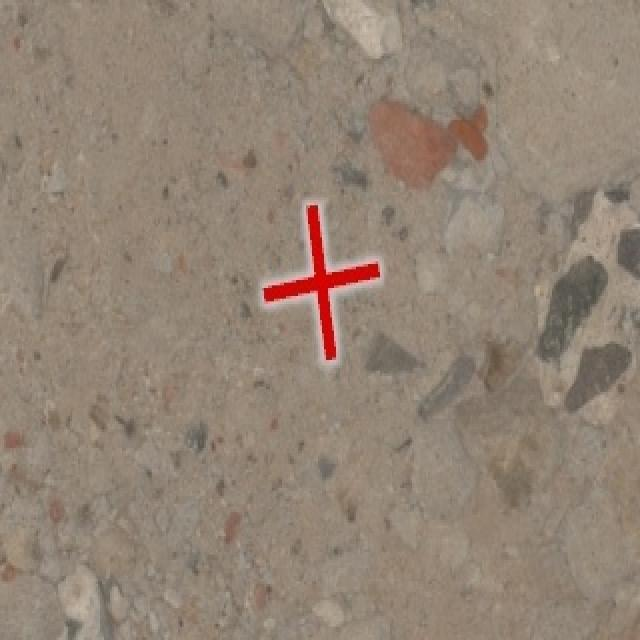x_marker: (263, 204, 379, 359)
